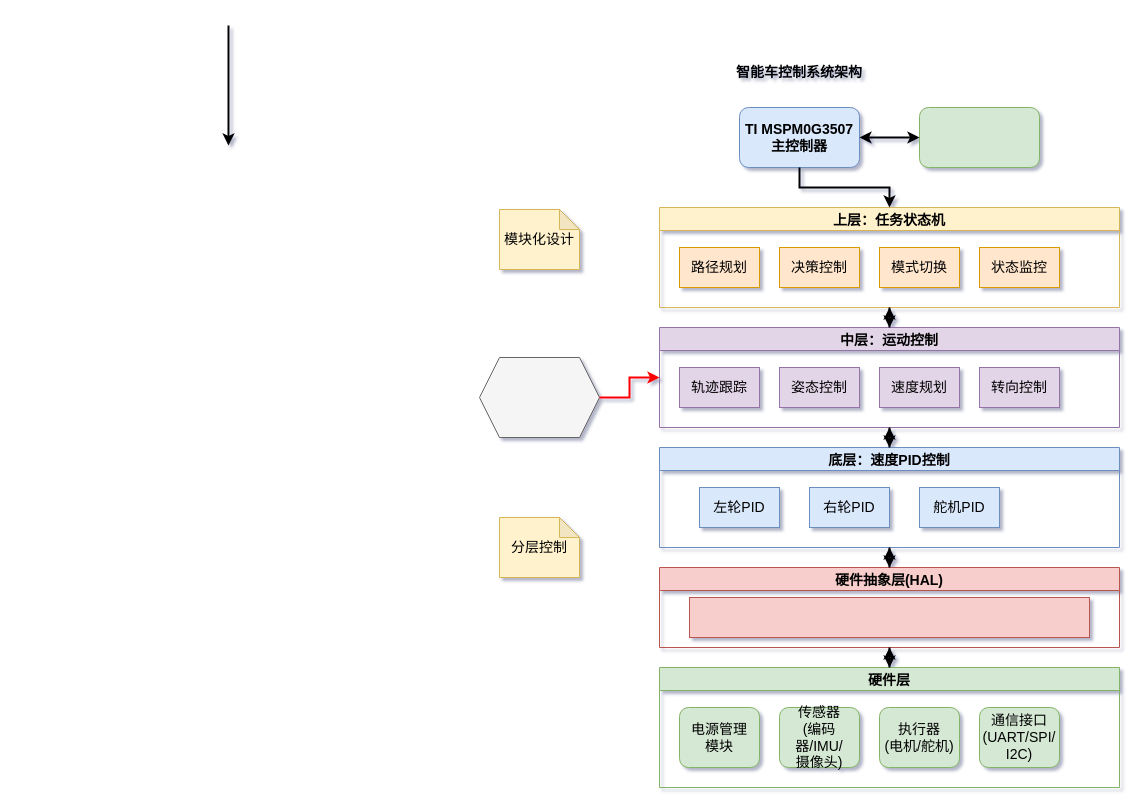
Some shapes in this 1143 by 811 pixel diagram are drawn without their labels. The shapes that lost their labels are listed below. From the top down, each one's centre as x and y in pixels, then its label:
[979,137]: 视觉协处理器
[539,397]: 实时任务调度器 (定时器中断)
[889,617]: 统一接口 | 硬件隔离 | 驱动封装 | 中断管理
